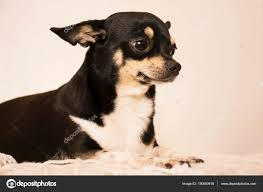chihuahua: (1, 10, 187, 151)
